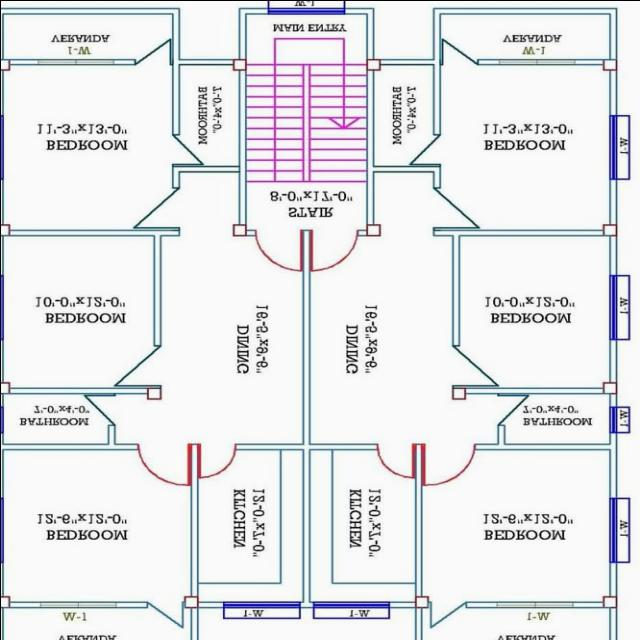column: (226, 218, 252, 240), (408, 590, 434, 611), (596, 376, 622, 396), (446, 382, 470, 402), (596, 219, 620, 239), (596, 592, 622, 610), (180, 590, 202, 610), (362, 54, 384, 74), (362, 219, 384, 239), (142, 382, 164, 402), (227, 55, 250, 74), (598, 56, 620, 74), (0, 378, 17, 398), (0, 590, 12, 612), (0, 219, 13, 239), (0, 57, 13, 72)
